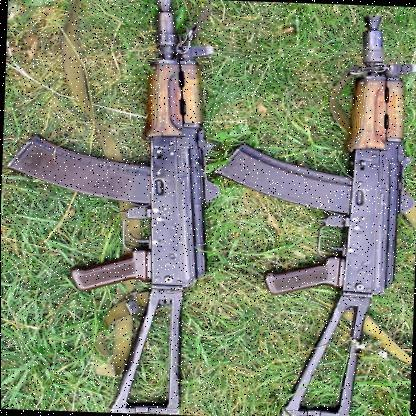rifle: (5, 0, 219, 412), (208, 9, 416, 416)
